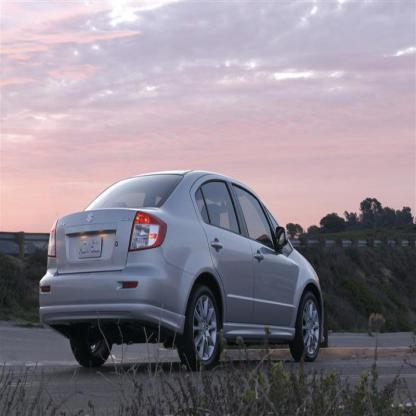car: (38, 167, 326, 374)
